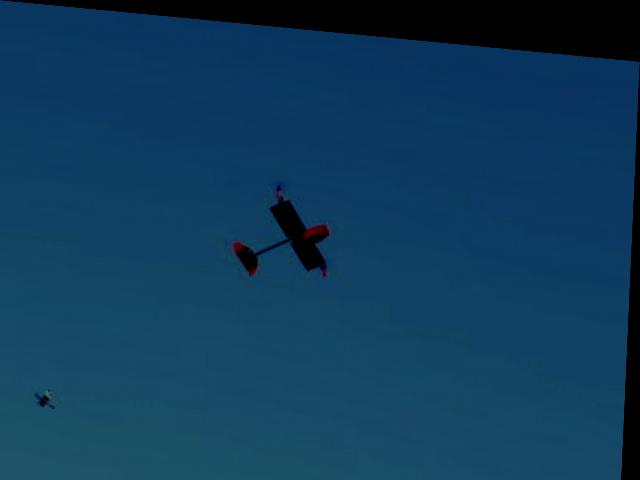uav: (227, 171, 345, 282)
